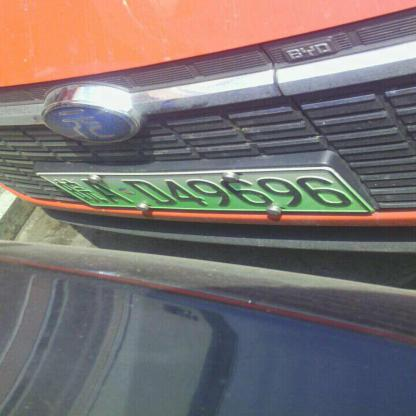lp: (39, 169, 92, 211)
